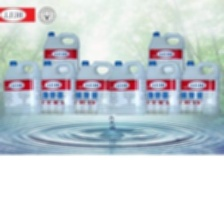cleaning_solution: (72, 57, 116, 118), (43, 30, 81, 97), (38, 56, 79, 117), (1, 59, 43, 118), (107, 59, 148, 117), (147, 28, 186, 87), (143, 58, 184, 114), (180, 61, 220, 116)
